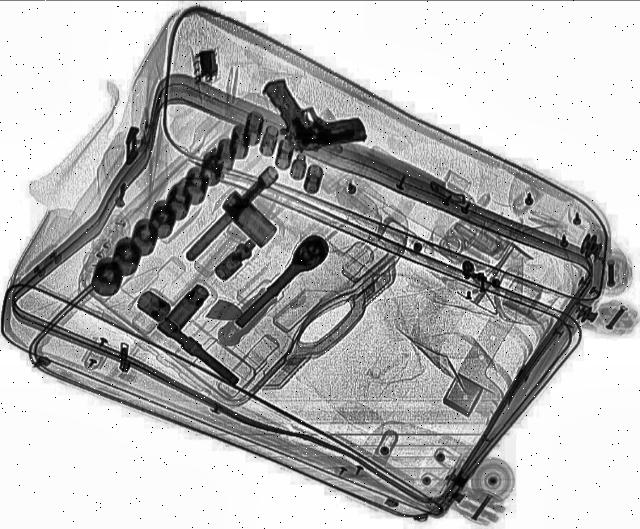Gun: (260, 62, 374, 160)
